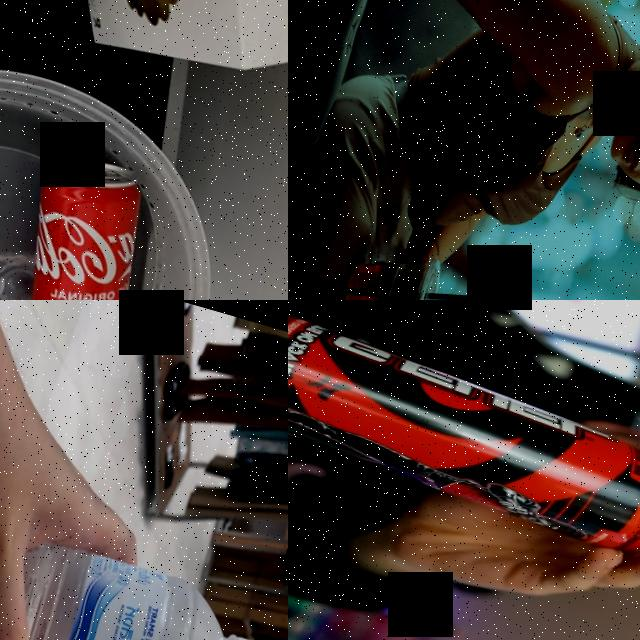bottle: (0, 462, 282, 640)
can: (288, 300, 640, 569), (0, 142, 178, 300)
cup: (335, 231, 451, 300)
